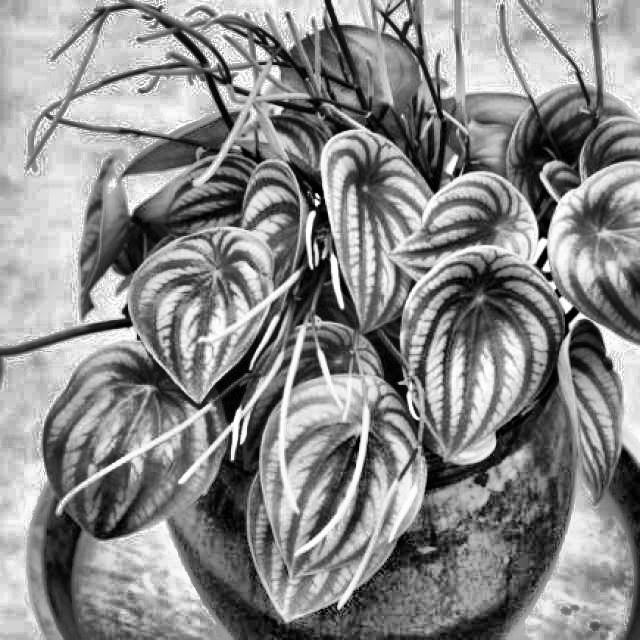plants: (78, 160, 639, 626)
